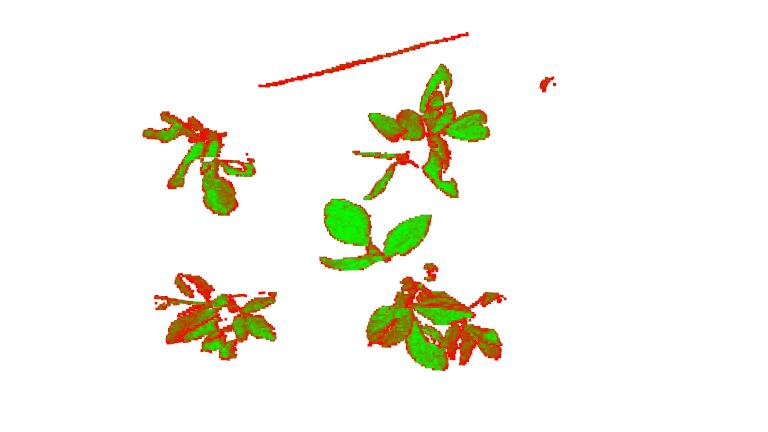mungbean: (320, 198, 507, 368), (356, 65, 490, 202), (141, 108, 256, 219), (154, 262, 278, 361)
